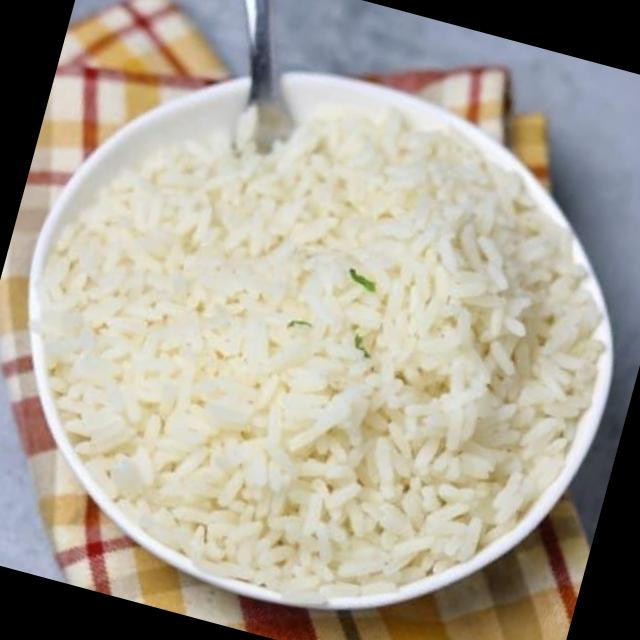rice: (31, 108, 600, 603)
